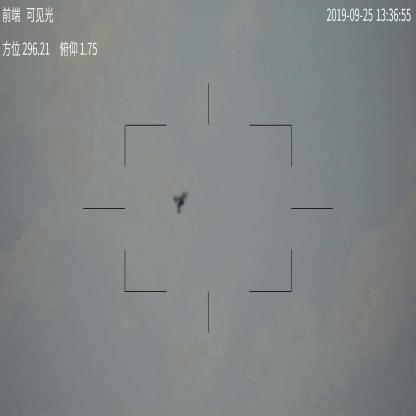uav: (172, 190, 190, 215)
